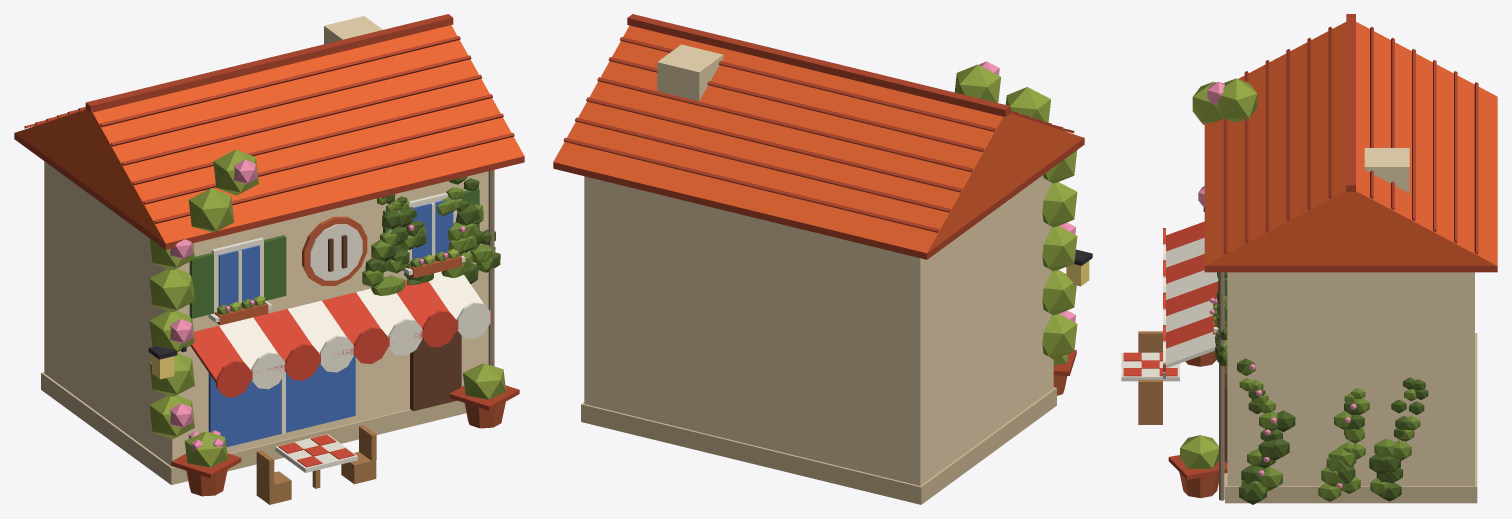
The model's file is trattoria.glb.
3 renders of one model, left to right at view 1: azimuth 30°, elevation 25°; view 2: azimuth 150°, elevation 25°; view 3: azimuth 270°, elevation 25°, orthographic. The views are drawn at different scales.
Visible parts, largest first — view 1: trattoria; view 2: trattoria; view 3: trattoria.
Part boxes in pixels (bbox=[...]): trattoria: bbox=[14, 14, 524, 504]; trattoria: bbox=[553, 14, 1092, 504]; trattoria: bbox=[1121, 14, 1497, 504].
Bounding box in the file's own units: 9.12 × 8.01 × 8.35.
